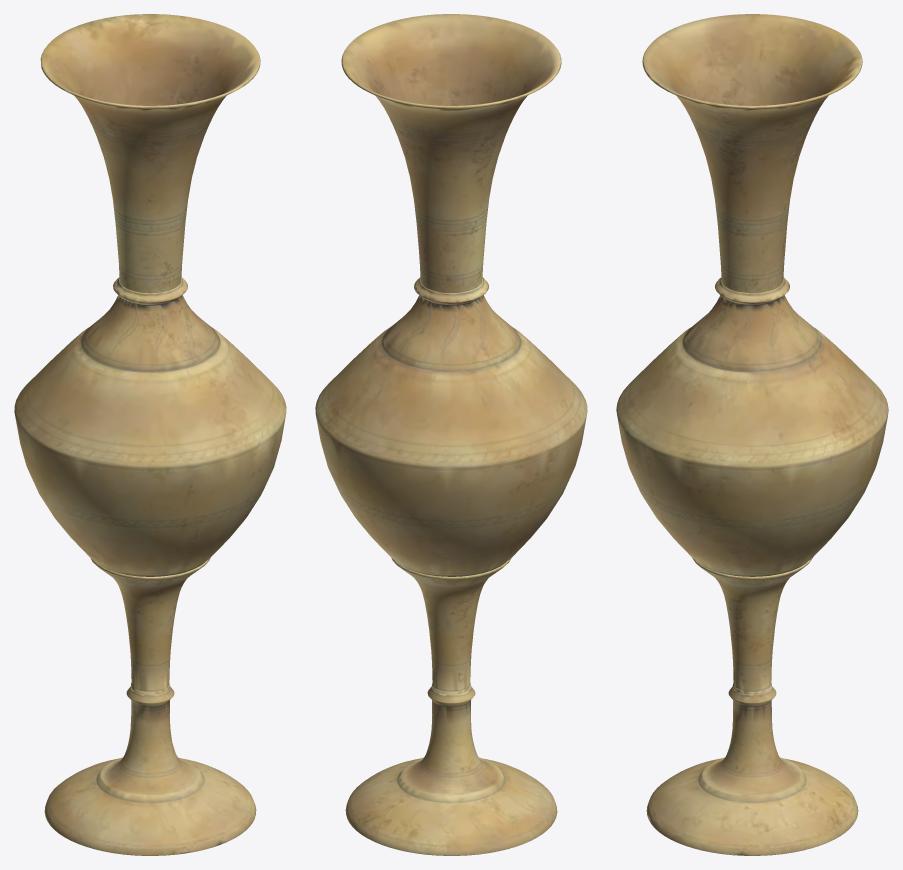
The model's file is brass_vase_01.glb.
The picture shows the model from 3 angles, left to right: view 1: azimuth 30°, elevation 25°; view 2: azimuth 150°, elevation 25°; view 3: azimuth 270°, elevation 25°; orthographic projection.
Parts seen in each view (by area): view 1: brass_vase_01; view 2: brass_vase_01; view 3: brass_vase_01.
Boxes of the visible parts, x1,y1,x2,y2 form: brass_vase_01: (14, 14, 286, 855); brass_vase_01: (315, 14, 587, 855); brass_vase_01: (616, 14, 888, 855).
Size of the model in its own units: 0.2273 by 0.6925 by 0.2273.
1 material, 1 textured.
